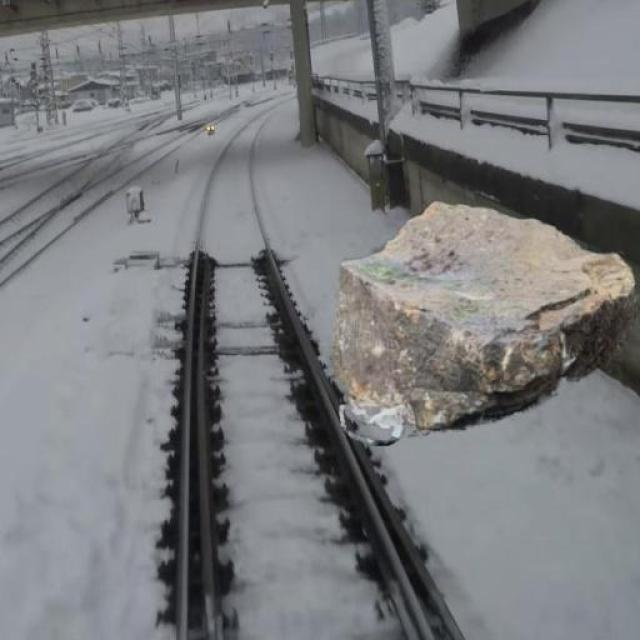Stone: (332, 200, 640, 454)
